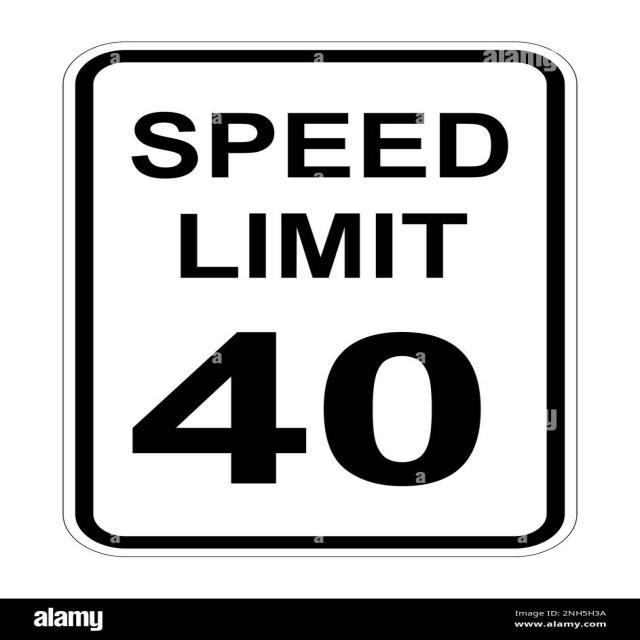speedLimit40: (56, 41, 576, 562)
